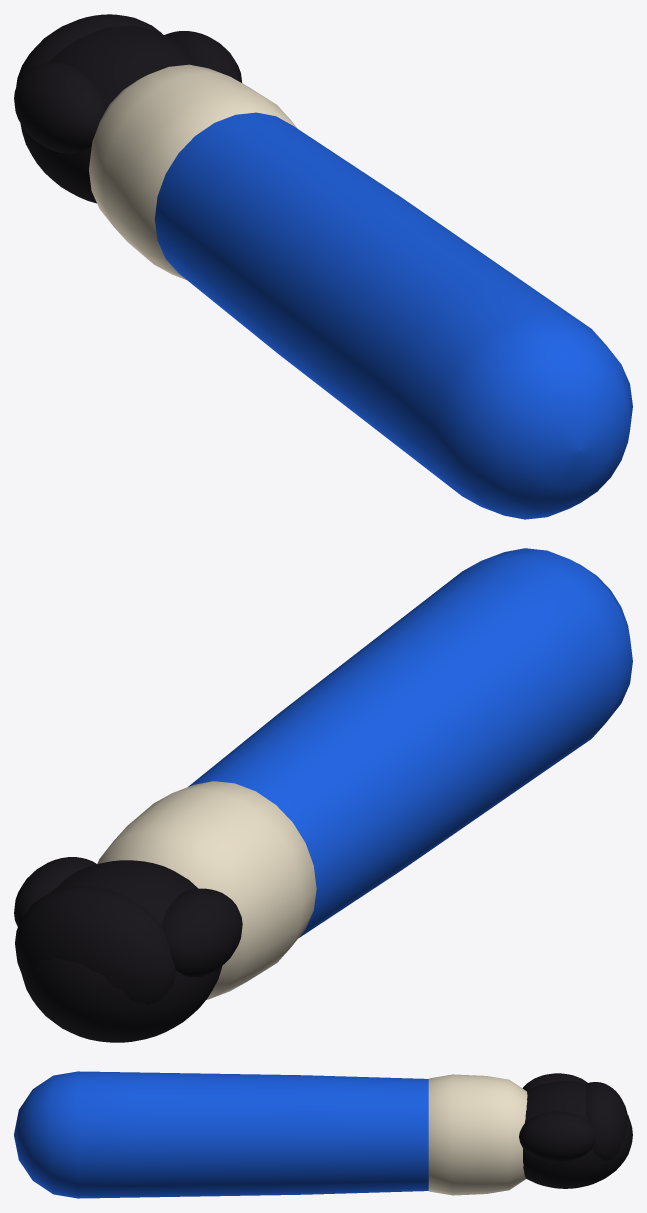
Rendered from PlanetArms.fbx.
3 renders of one model, top to bottom at view 1: azimuth 30°, elevation 25°; view 2: azimuth 150°, elevation 25°; view 3: azimuth 270°, elevation 25°, orthographic. The views are drawn at different scales.
Visible parts, largest first — view 1: FP_Bolt_L, FP_Bolt_R; view 2: FP_Bolt_L, FP_Bolt_R; view 3: FP_Bolt_L, FP_Bolt_R.
Part boxes in pixels (bbox=[...]): FP_Bolt_L: bbox=[16, 14, 632, 519]; FP_Bolt_R: bbox=[14, 62, 104, 153]; FP_Bolt_L: bbox=[14, 548, 632, 1042]; FP_Bolt_R: bbox=[162, 888, 242, 977]; FP_Bolt_L: bbox=[14, 1071, 632, 1198]; FP_Bolt_R: bbox=[522, 1073, 587, 1090].
Size of the model in its own units: 0.19 by 0.17 by 0.825.
